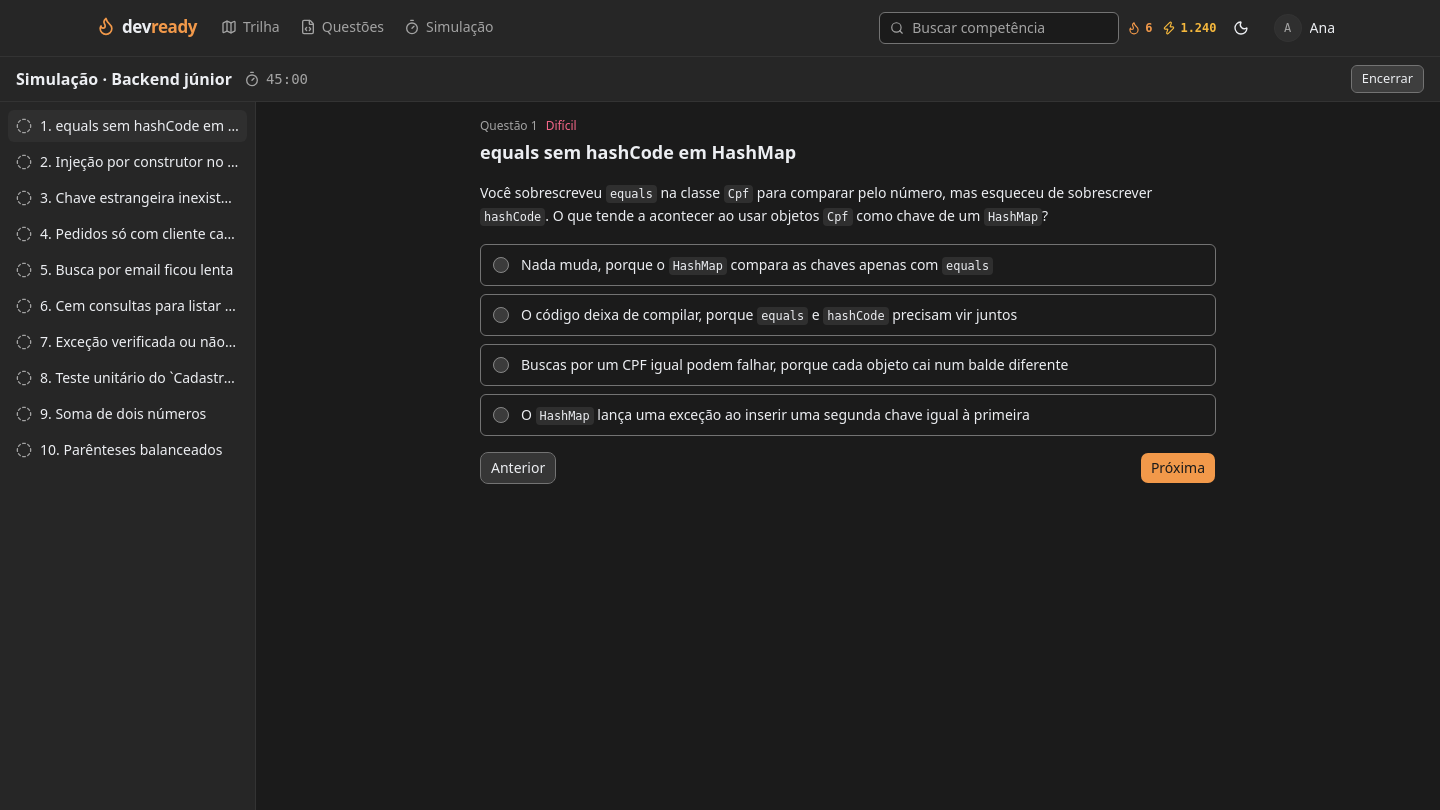
Test: página da sessão › cancelar ou Esc no diálogo de encerrar devolve o foco ao botão Encerrar
The image size is (1440, 810).
expect the heading "Simulação · Backend júnior" is shown: met, box top-left (16, 67), bottom-right (232, 91)
Click the button "Encerrar".
click(1387, 79)  # box top-left (1351, 65), bottom-right (1424, 93)
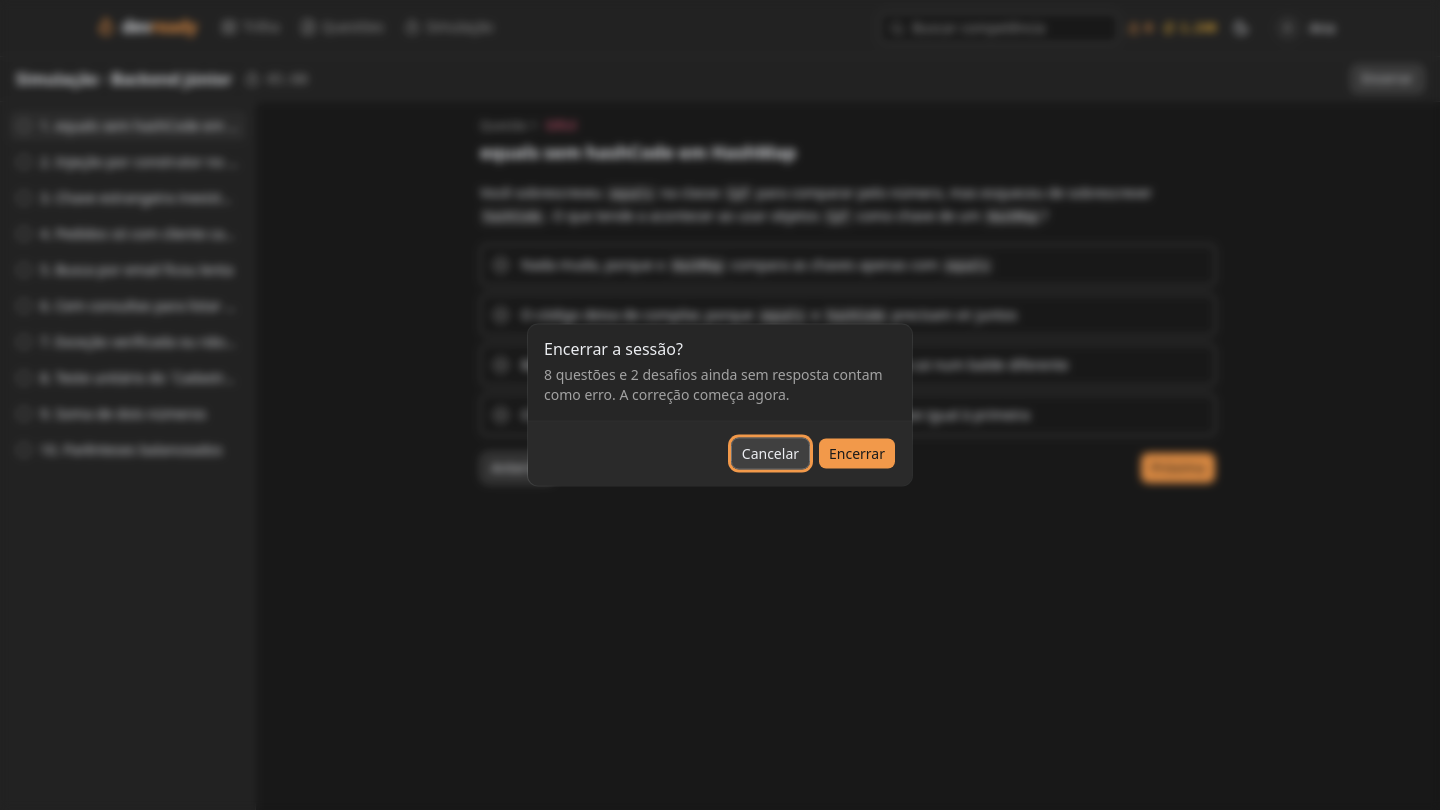
Click the button "Cancelar".
click(770, 454)  # box top-left (731, 438), bottom-right (810, 470)
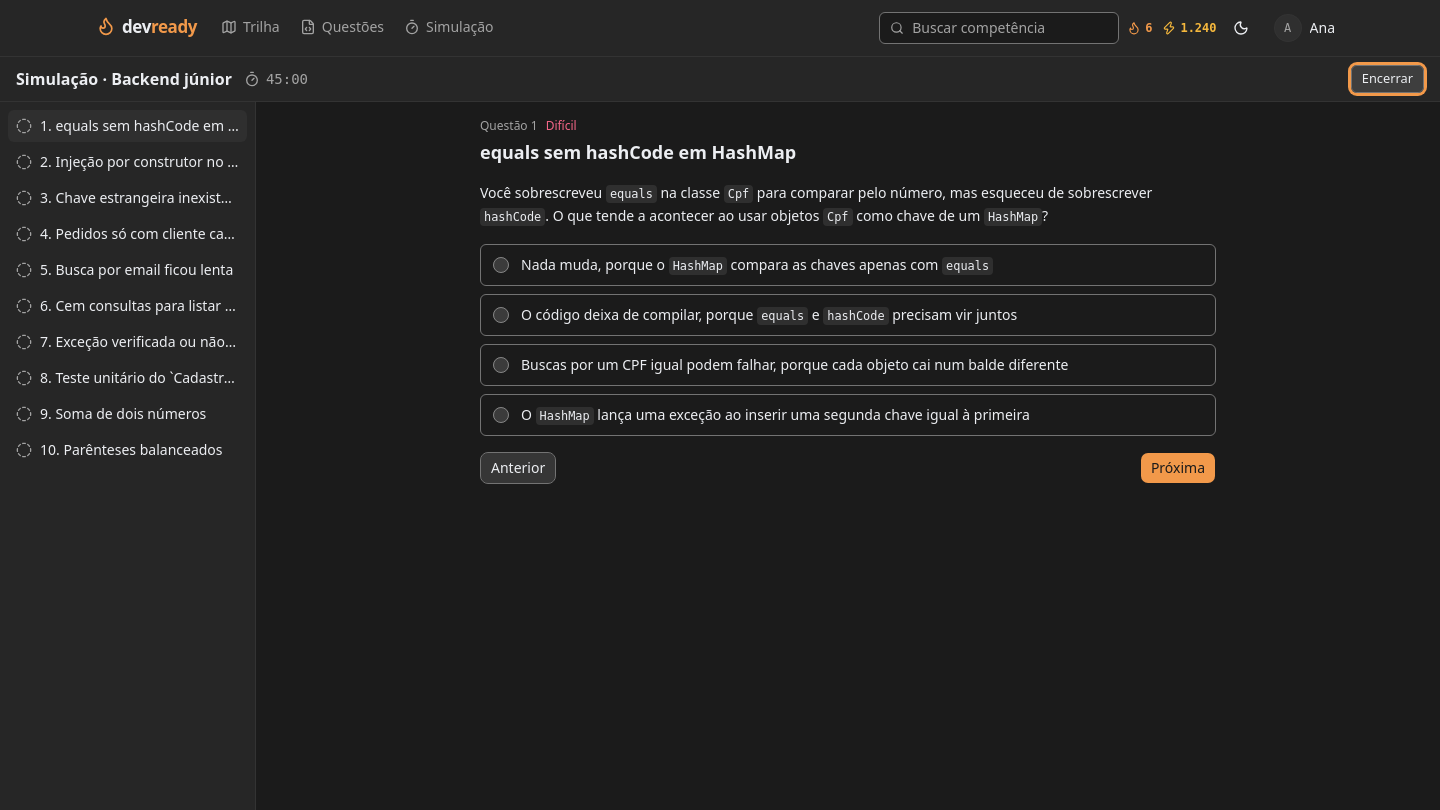
expect the dialog is gone: met
Click the button "Encerrar".
click(1387, 79)  # box top-left (1351, 65), bottom-right (1424, 93)
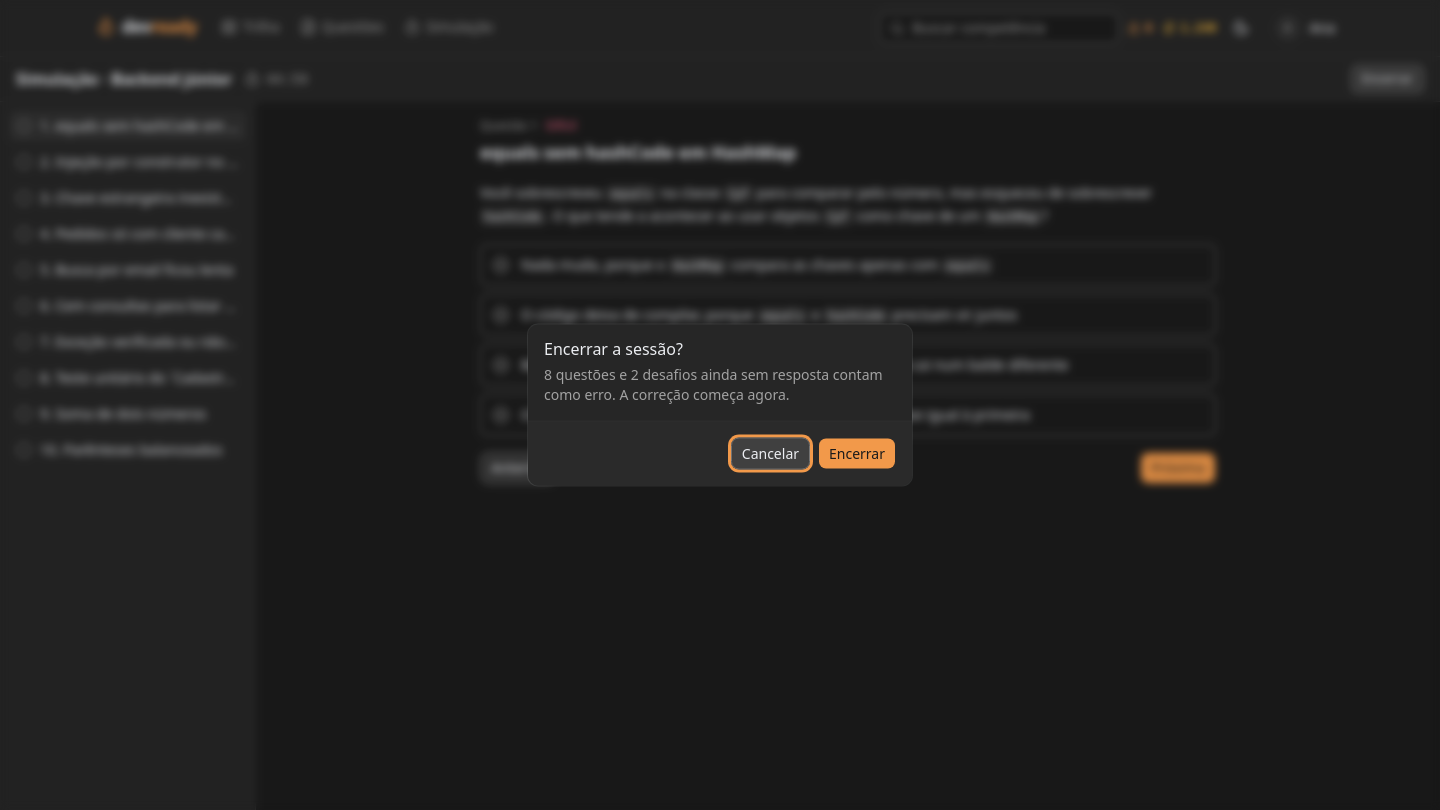
expect the dialog is shown: met, box top-left (528, 324), bottom-right (912, 486)
Press Escape
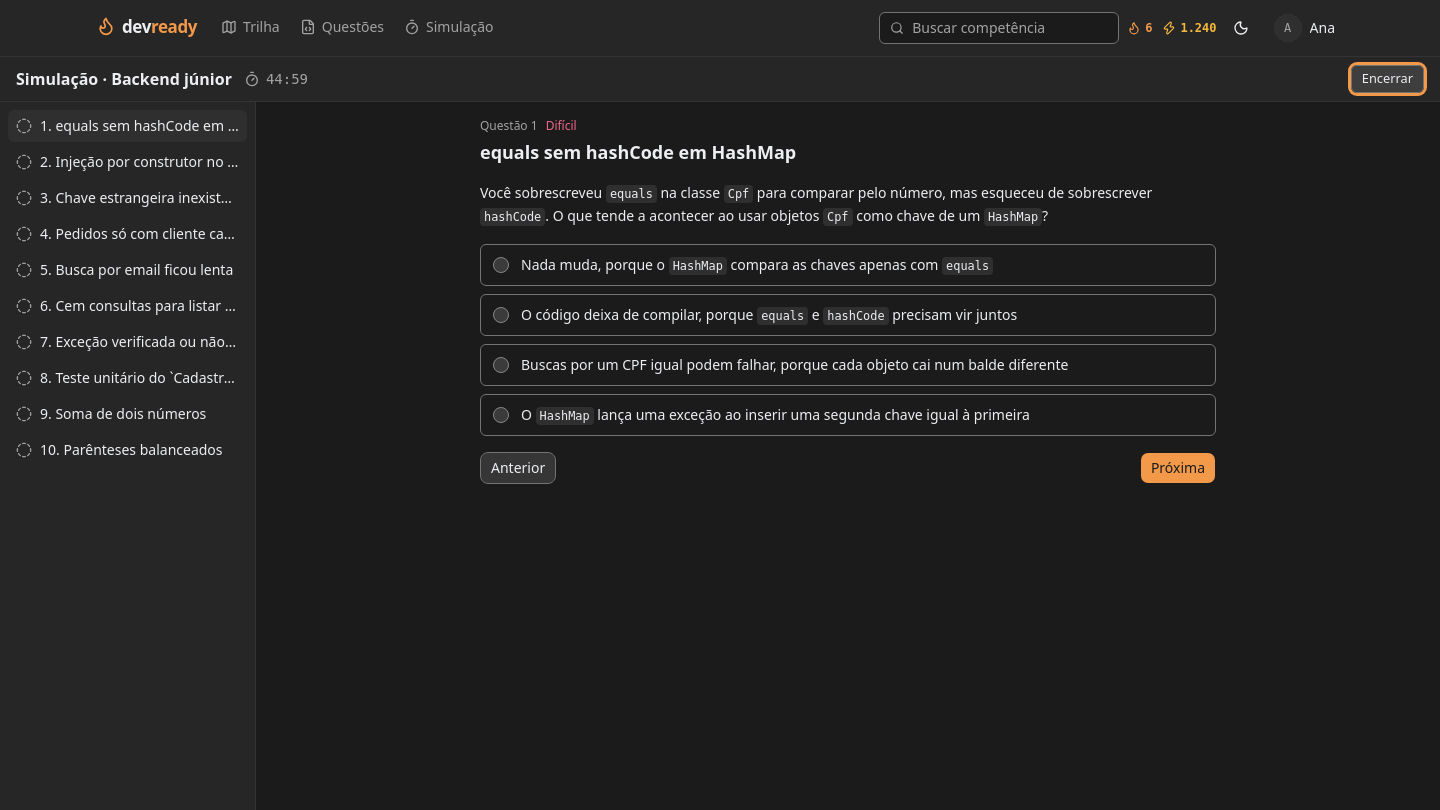
expect the dialog is gone: met
